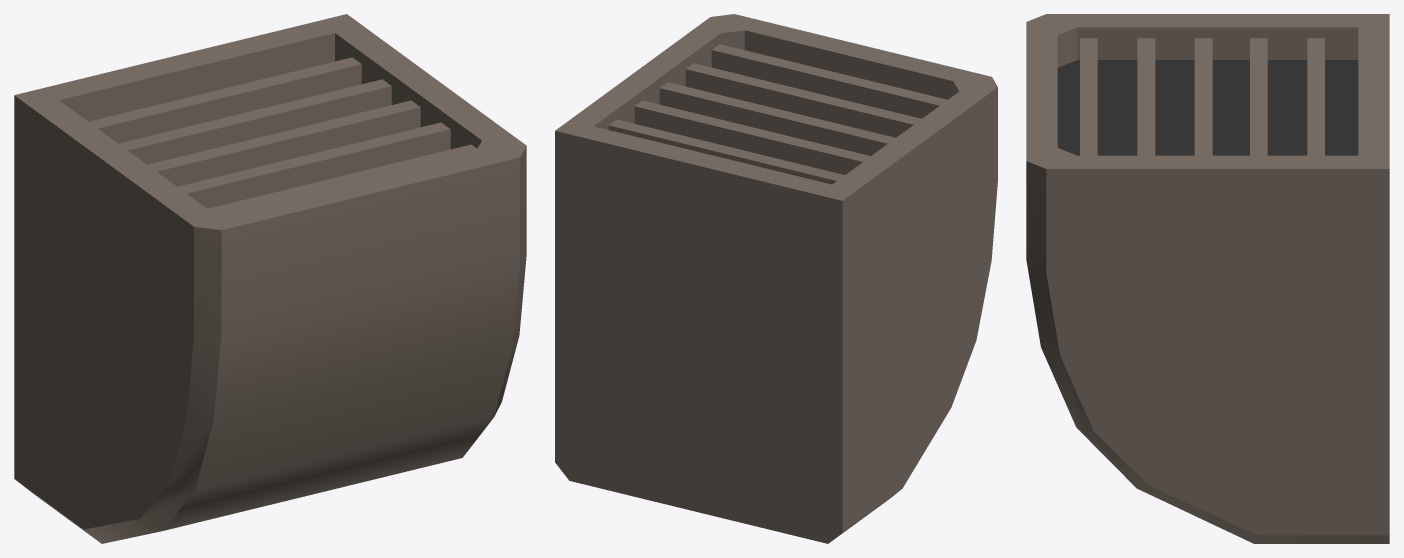
The model's file is VENTS_2_A.fbx.
3 renders of one model, left to right at view 1: azimuth 30°, elevation 25°; view 2: azimuth 150°, elevation 25°; view 3: azimuth 270°, elevation 25°, orthographic. The views are drawn at different scales.
Visible parts, largest first — view 1: VENTS_2_A; view 2: VENTS_2_A; view 3: VENTS_2_A.
Boxes of the visible parts, x1,y1,x2,y2 form: VENTS_2_A: [14, 14, 526, 543]; VENTS_2_A: [555, 14, 997, 543]; VENTS_2_A: [1026, 14, 1389, 543].
Size of the model in its own units: 53.32 by 61.42 by 52.84.
